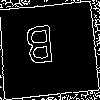B: (23, 24, 56, 73)
